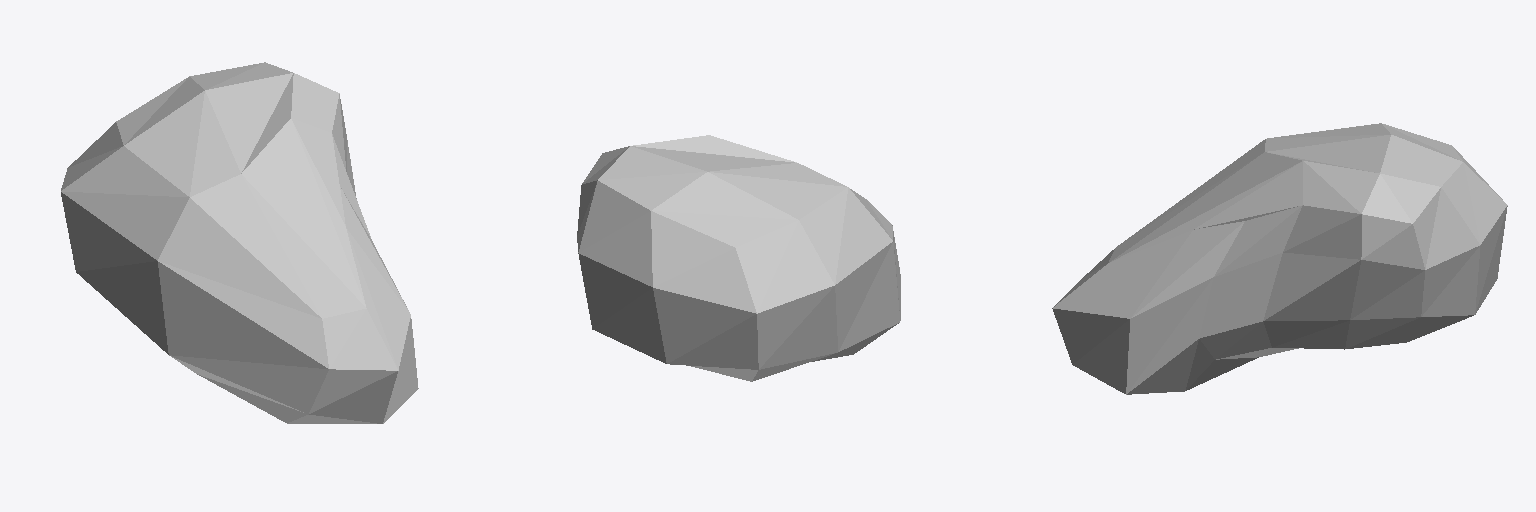
The model's file is Rock2.obj.
3 renders of one model, left to right at view 1: azimuth 30°, elevation 25°; view 2: azimuth 150°, elevation 25°; view 3: azimuth 270°, elevation 25°, orthographic.
Visible parts, largest first — view 1: Group31728; view 2: Group31728; view 3: Group31728.
Part boxes in pixels (x1,y1,x2,y2): Group31728: (61, 62, 418, 423); Group31728: (577, 135, 900, 381); Group31728: (1052, 123, 1507, 394).
Size of the model in its own units: 0.3923 by 0.3578 by 0.5894.